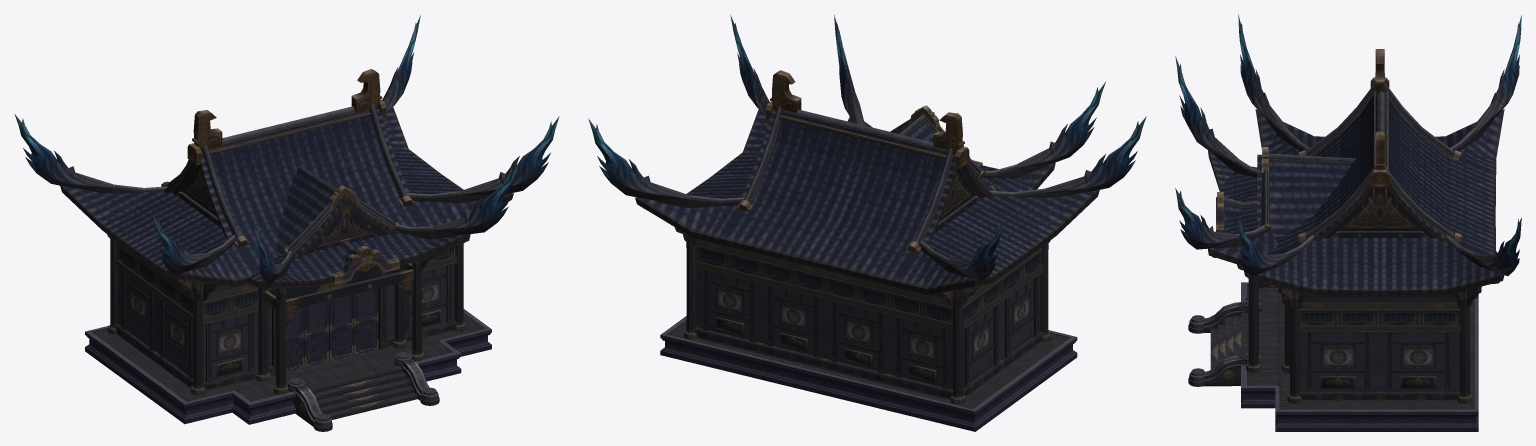
Rendered from 1005_Building_15.FBX.
3 views of the same model, side by side, from view 1: azimuth 30°, elevation 25°; view 2: azimuth 150°, elevation 25°; view 3: azimuth 270°, elevation 25° (orthographic). The views are drawn at different scales.
Parts seen in each view (by area): view 1: 1005_Building_15; view 2: 1005_Building_15; view 3: 1005_Building_15.
Part boxes in pixels (left/top/right/bottom): 1005_Building_15: left=14, top=15, right=559, bottom=431; 1005_Building_15: left=588, top=15, right=1146, bottom=431; 1005_Building_15: left=1175, top=14, right=1521, bottom=431.
Size of the model in its own units: 3144 by 1909 by 2270.
